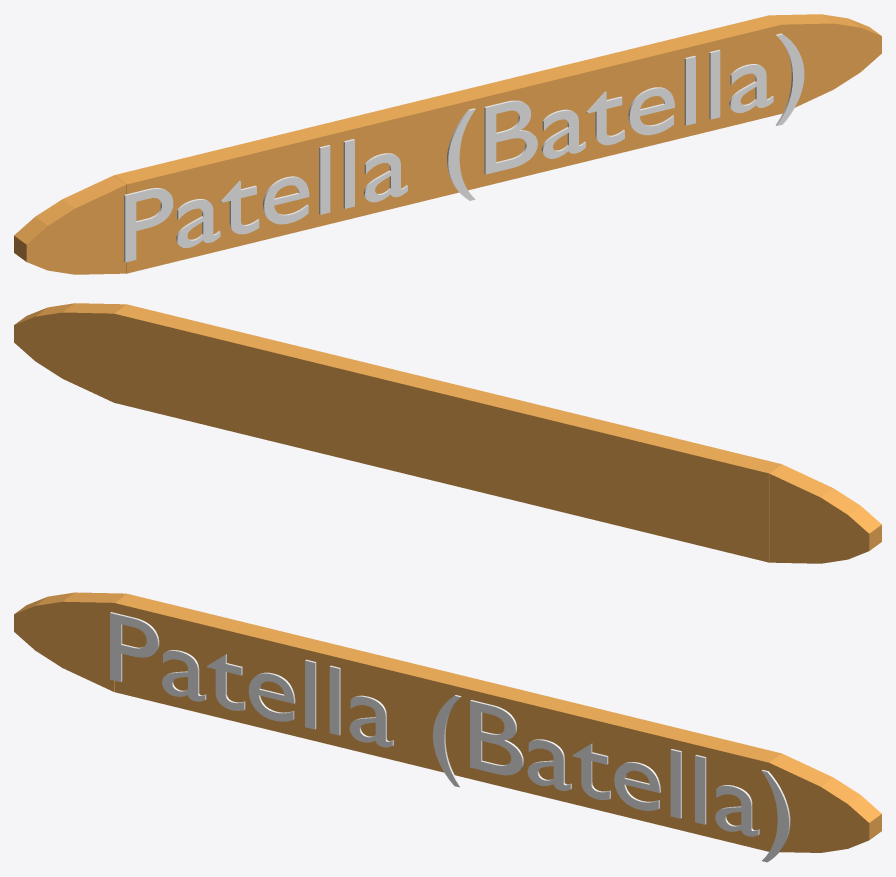
Rendered from txtPatella.fbx.
The picture shows the model from 3 angles, top to bottom: view 1: azimuth 30°, elevation 25°; view 2: azimuth 150°, elevation 25°; view 3: azimuth 330°, elevation 25°; orthographic projection.
Parts seen in each view (by area): view 1: TagContainer.057, Text.058; view 2: TagContainer.057; view 3: TagContainer.057, Text.058.
Part boxes in pixels (x1,y1,x2,y2): TagContainer.057: (14,14,881,274); Text.058: (124,33,804,262); TagContainer.057: (14,303,881,563); TagContainer.057: (14,592,881,852); Text.058: (110,612,790,862).
Bounding box in the file's own units: 414 × 45.81 × 11.79.
